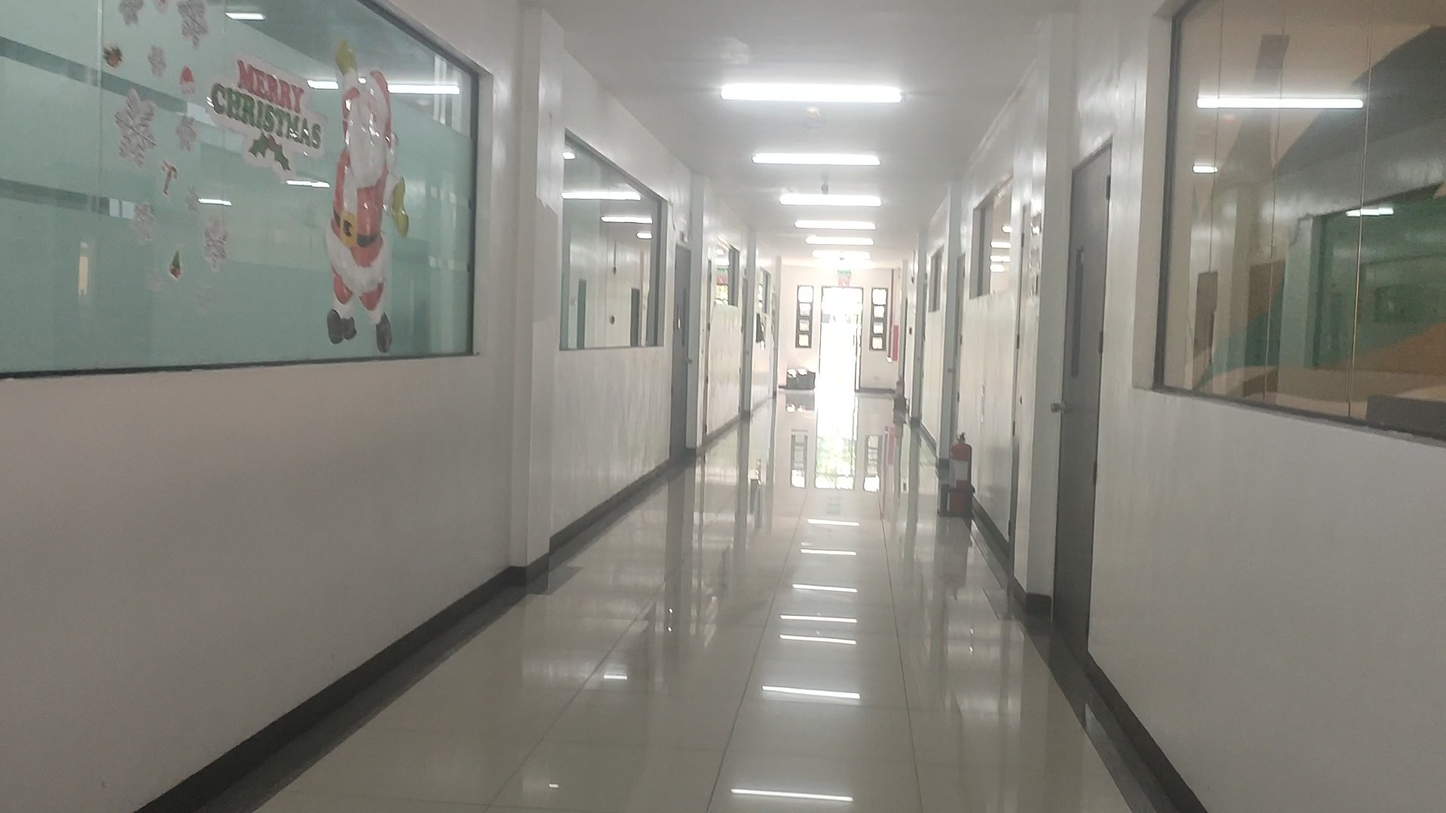door: (1054, 138, 1112, 660)
